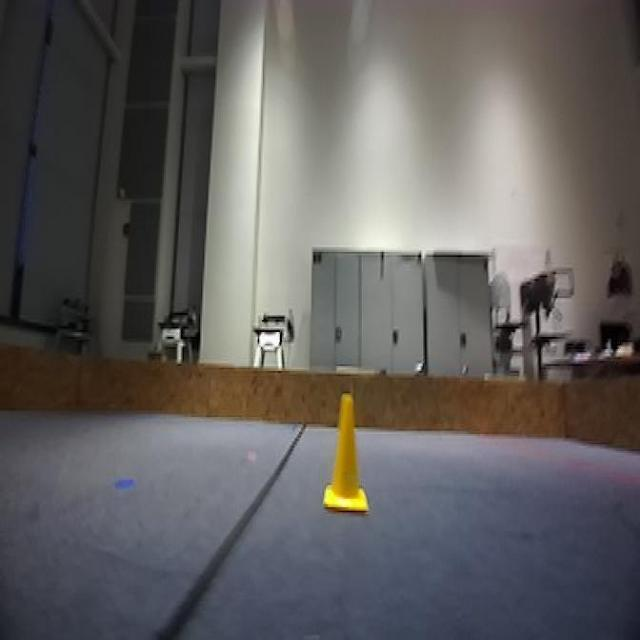frc_cone: (320, 393, 371, 512)
